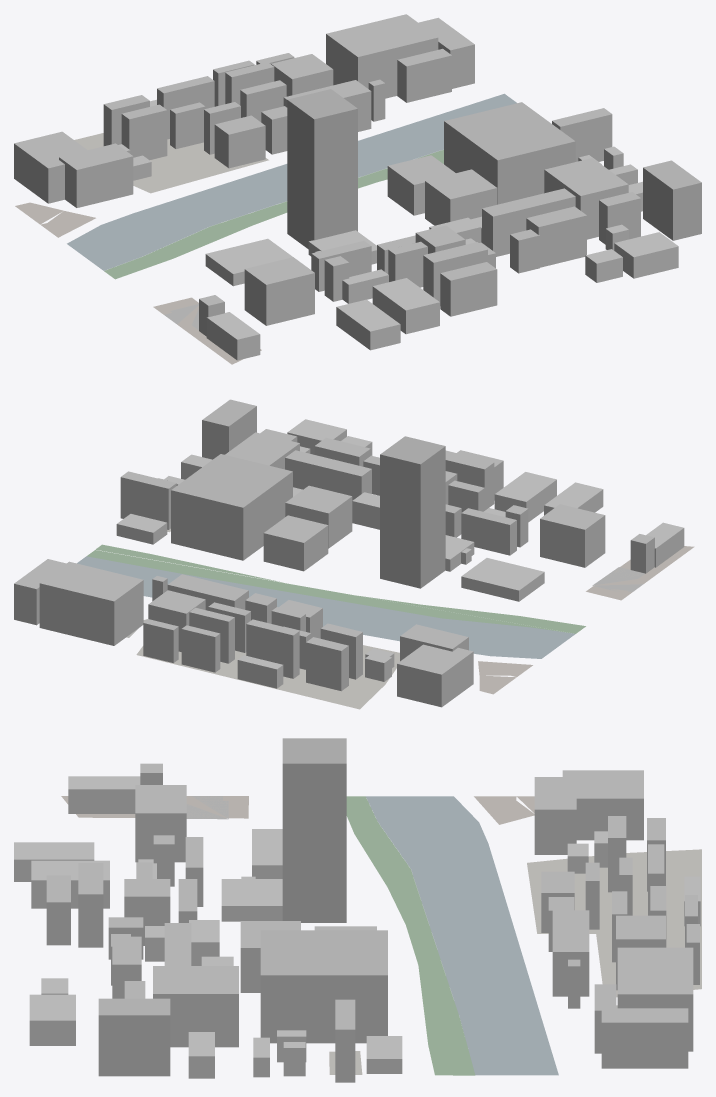
The model's file is 120_98_mid.glb.
The picture shows the model from 3 angles, top to bottom: view 1: azimuth 30°, elevation 25°; view 2: azimuth 150°, elevation 25°; view 3: azimuth 270°, elevation 25°; orthographic projection. The views are drawn at different scales.
Bounding box in the file's own units: 514 × 133 × 521.
